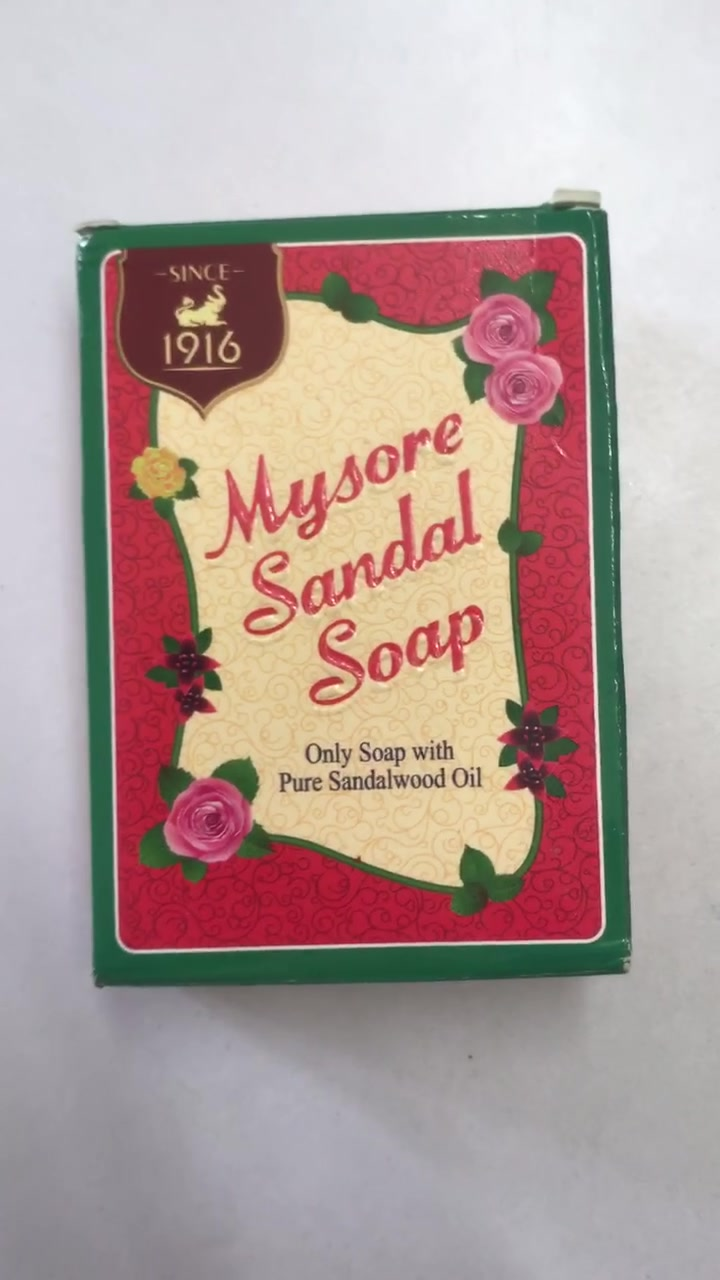mysore sandal soap: (74, 220, 630, 980)
